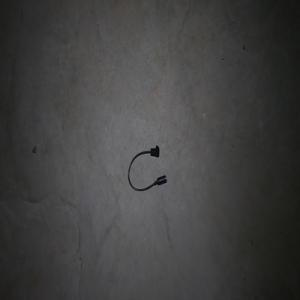Wire: (127, 145, 167, 191)
